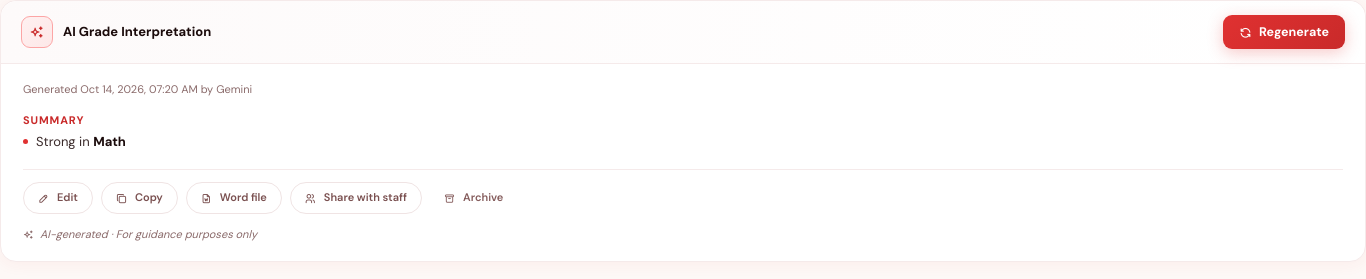
Test case: AIInsightPanel › shares with staff, and offers to update a shared copy that fell behind
This screenshot has width=1366, height=279.
Step 1. Click the button "Share with staff" → click(356, 198), box left=290, top=182, right=422, bottom=214
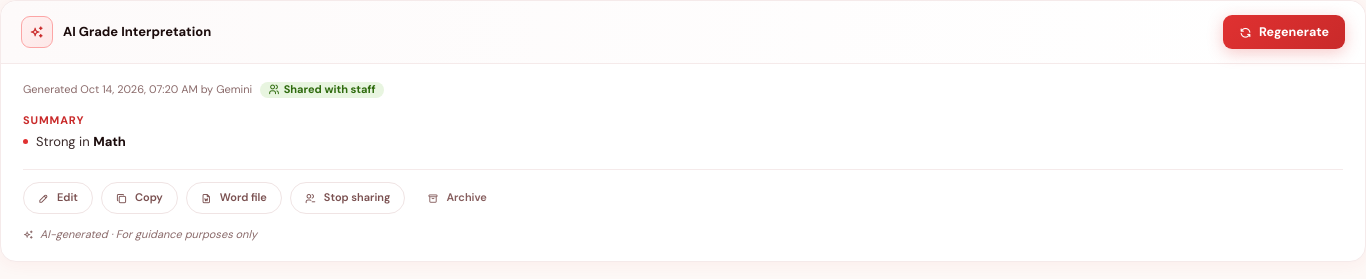
Expected: the text "Shared with staff" is shown, left=260, top=82, right=384, bottom=98
Expected: the button "Stop sharing" is shown, left=290, top=182, right=405, bottom=214
